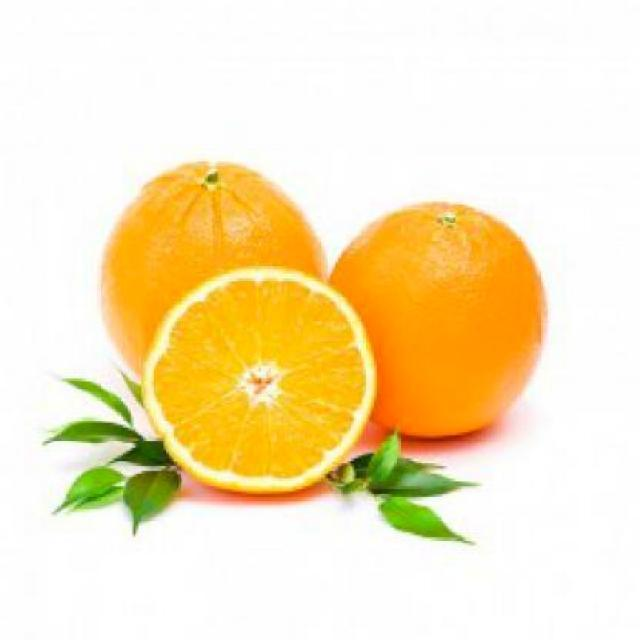Jeruk Sudah Matang: (318, 204, 550, 443), (94, 156, 330, 387)
